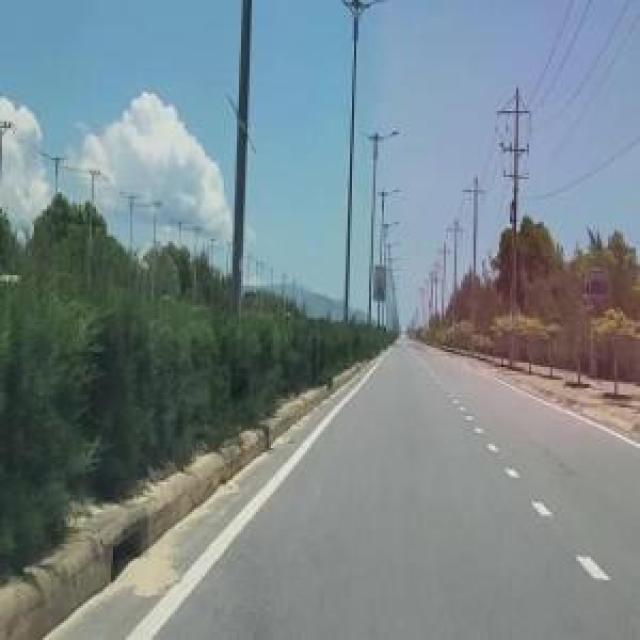clear-road: (44, 343, 640, 640)
